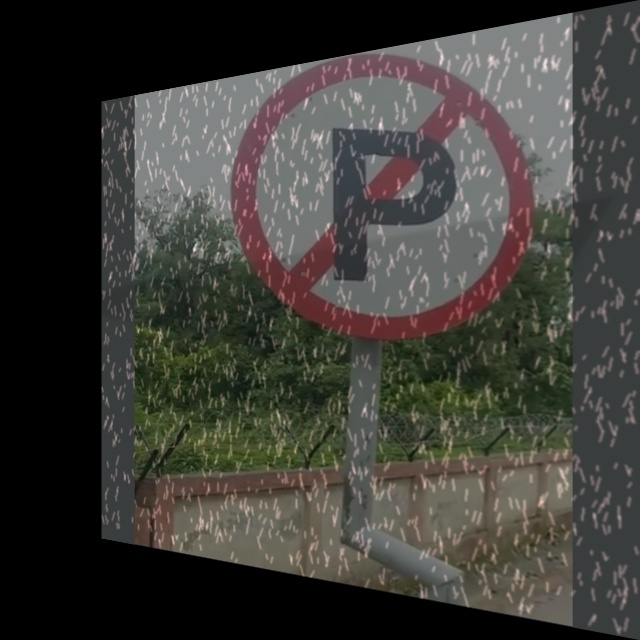No_Parking: (238, 28, 529, 334)
